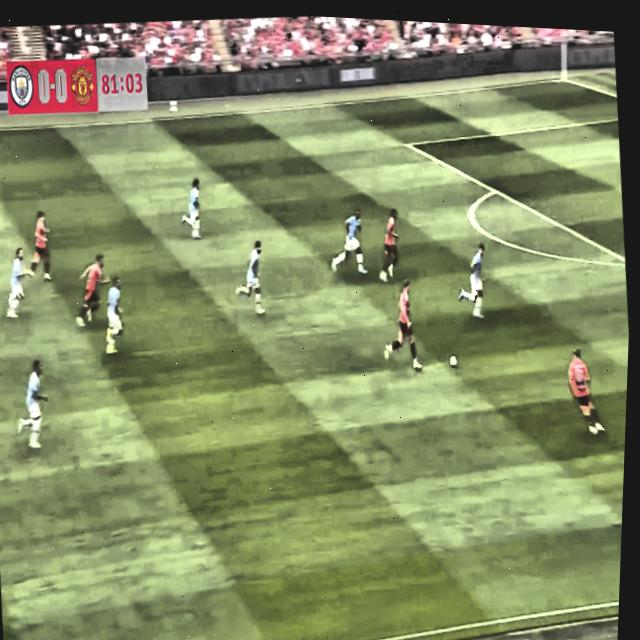ball: (447, 346, 460, 376)
players: (373, 271, 429, 376), (559, 342, 614, 442), (66, 243, 117, 337), (9, 348, 53, 452), (226, 226, 272, 321), (450, 231, 493, 330), (323, 204, 372, 287), (95, 271, 133, 365), (372, 202, 408, 299), (23, 201, 61, 290), (0, 241, 34, 325), (173, 168, 208, 245)
